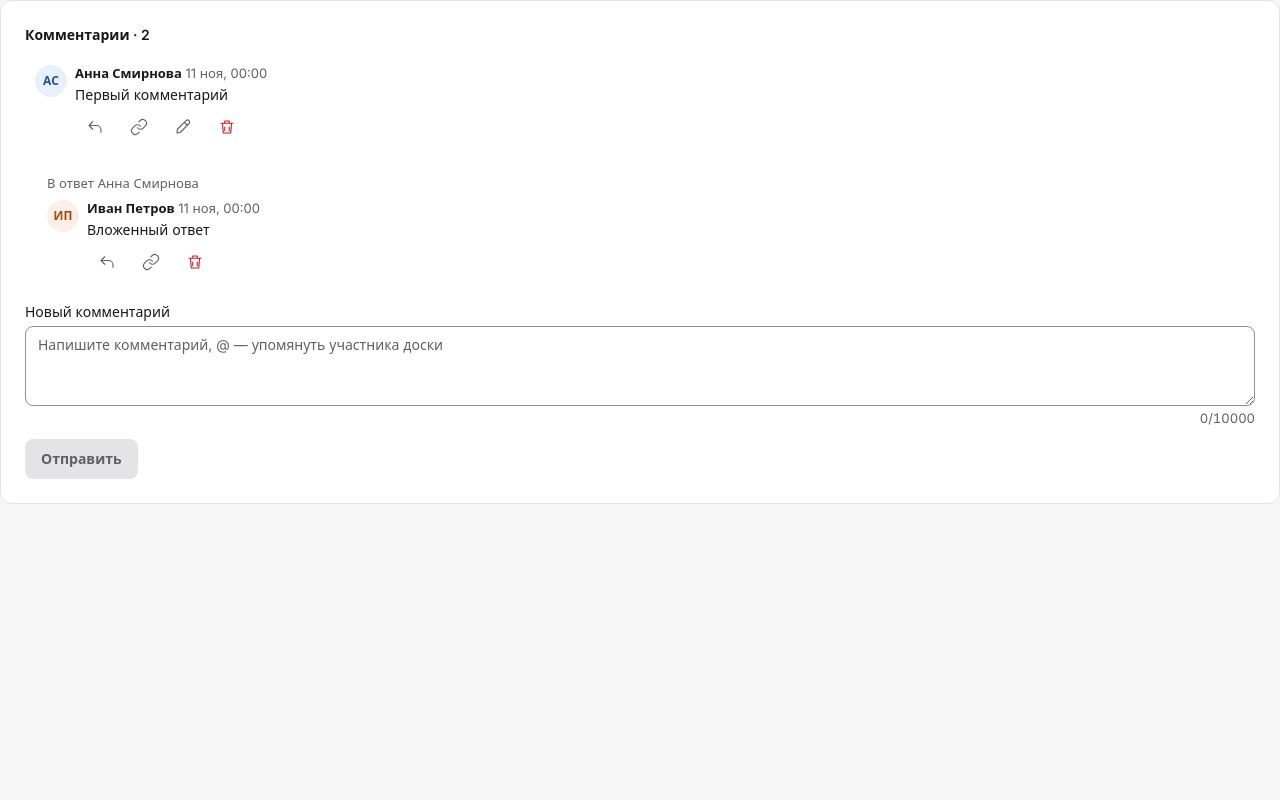
Test case: TaskCommentsCard › отправляет ответ на комментарий Первый комментарий и обновляет кэш
Click the button named "Ответить" below "Первый комментарий".
click(95, 127)  # box [75, 107, 115, 147]
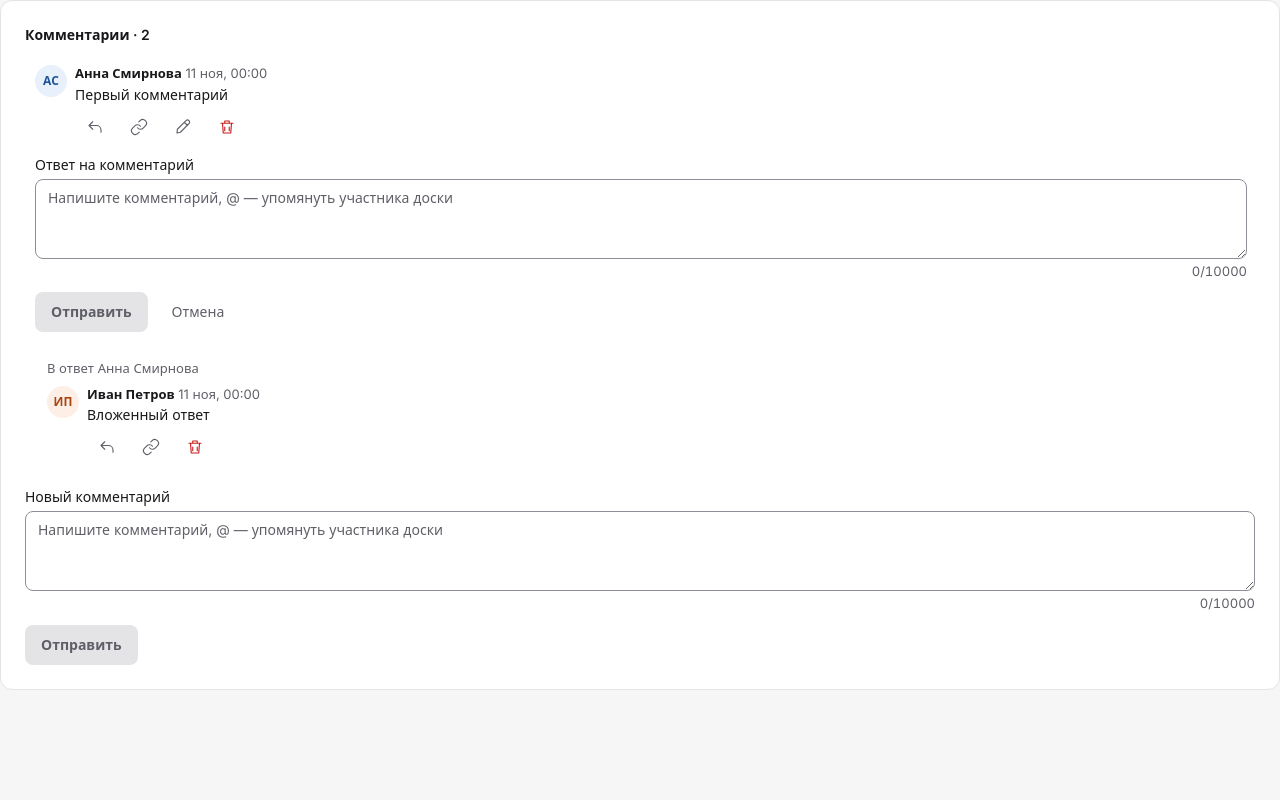
Type " Новый ответ " into the text box labelled "Ответ на комментарий".
click(641, 219); type(" Новый ответ ")  # box [35, 179, 1247, 259]
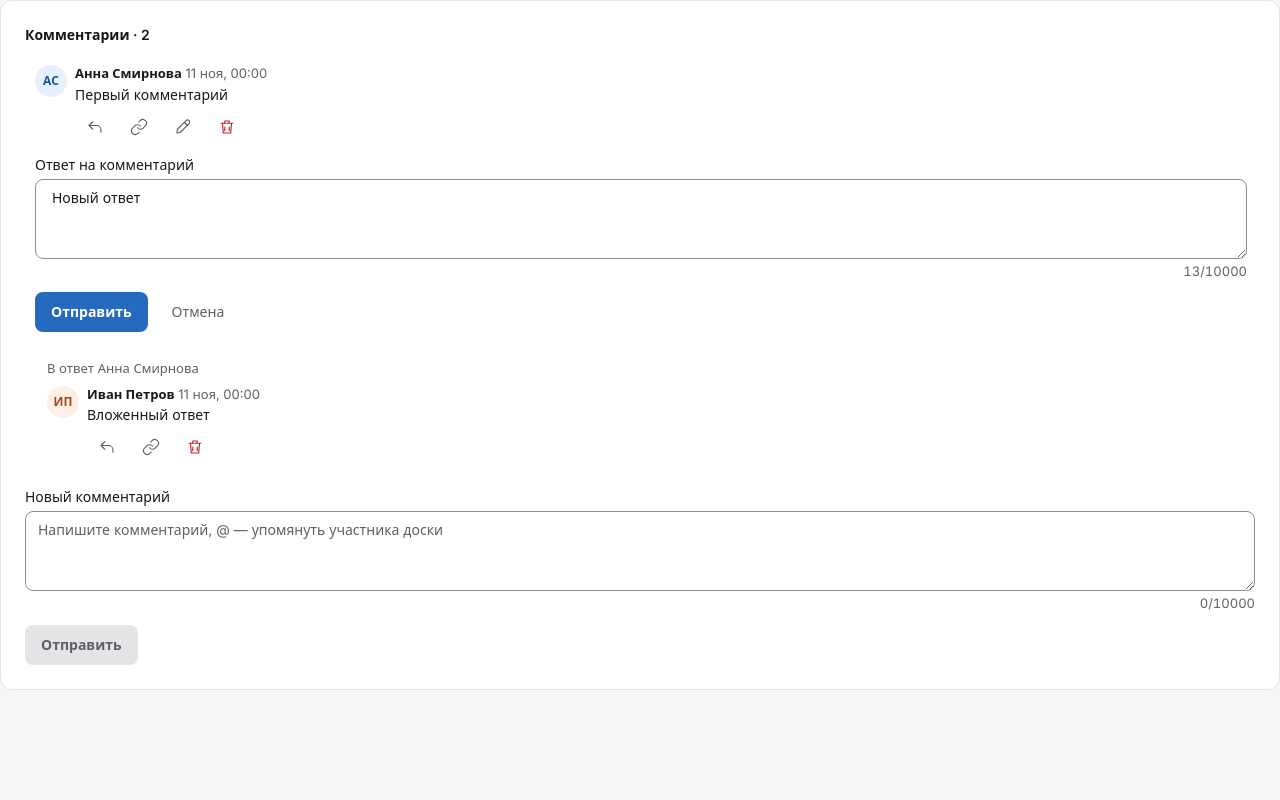
Click the button "Отправить" below "Ответ на комментарий".
click(91, 312)  # box [35, 292, 148, 332]
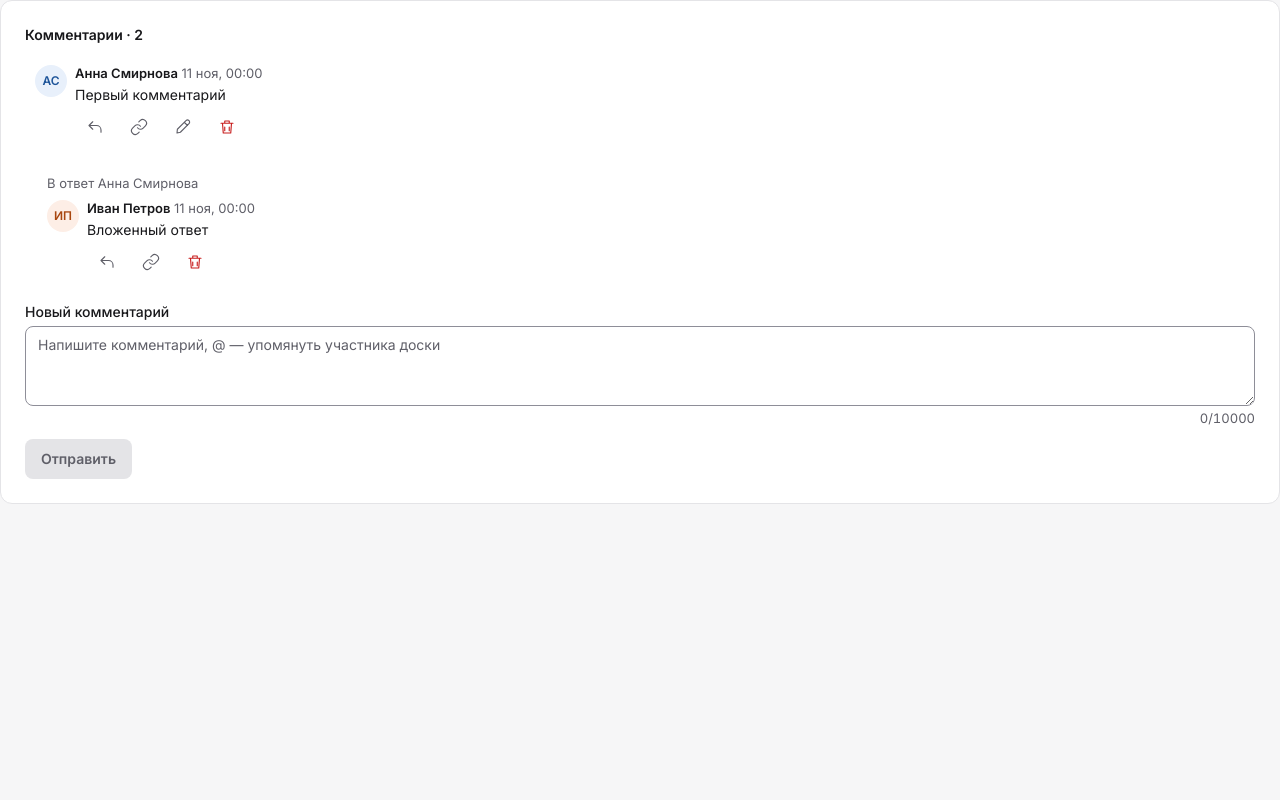
Check: the label labelled "Ответ на комментарий" is gone
